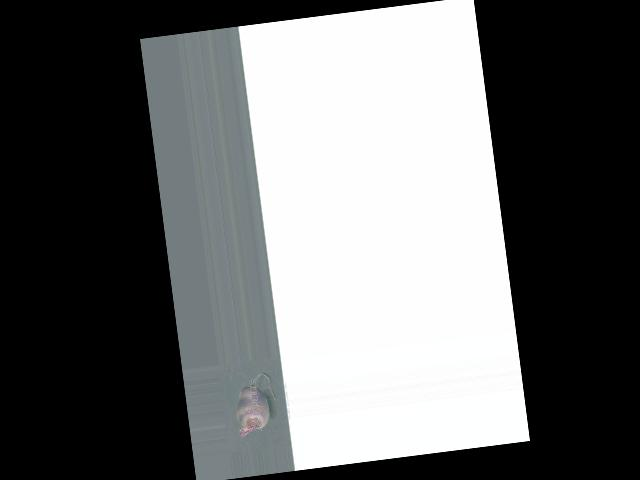beet: (231, 372, 279, 439)
